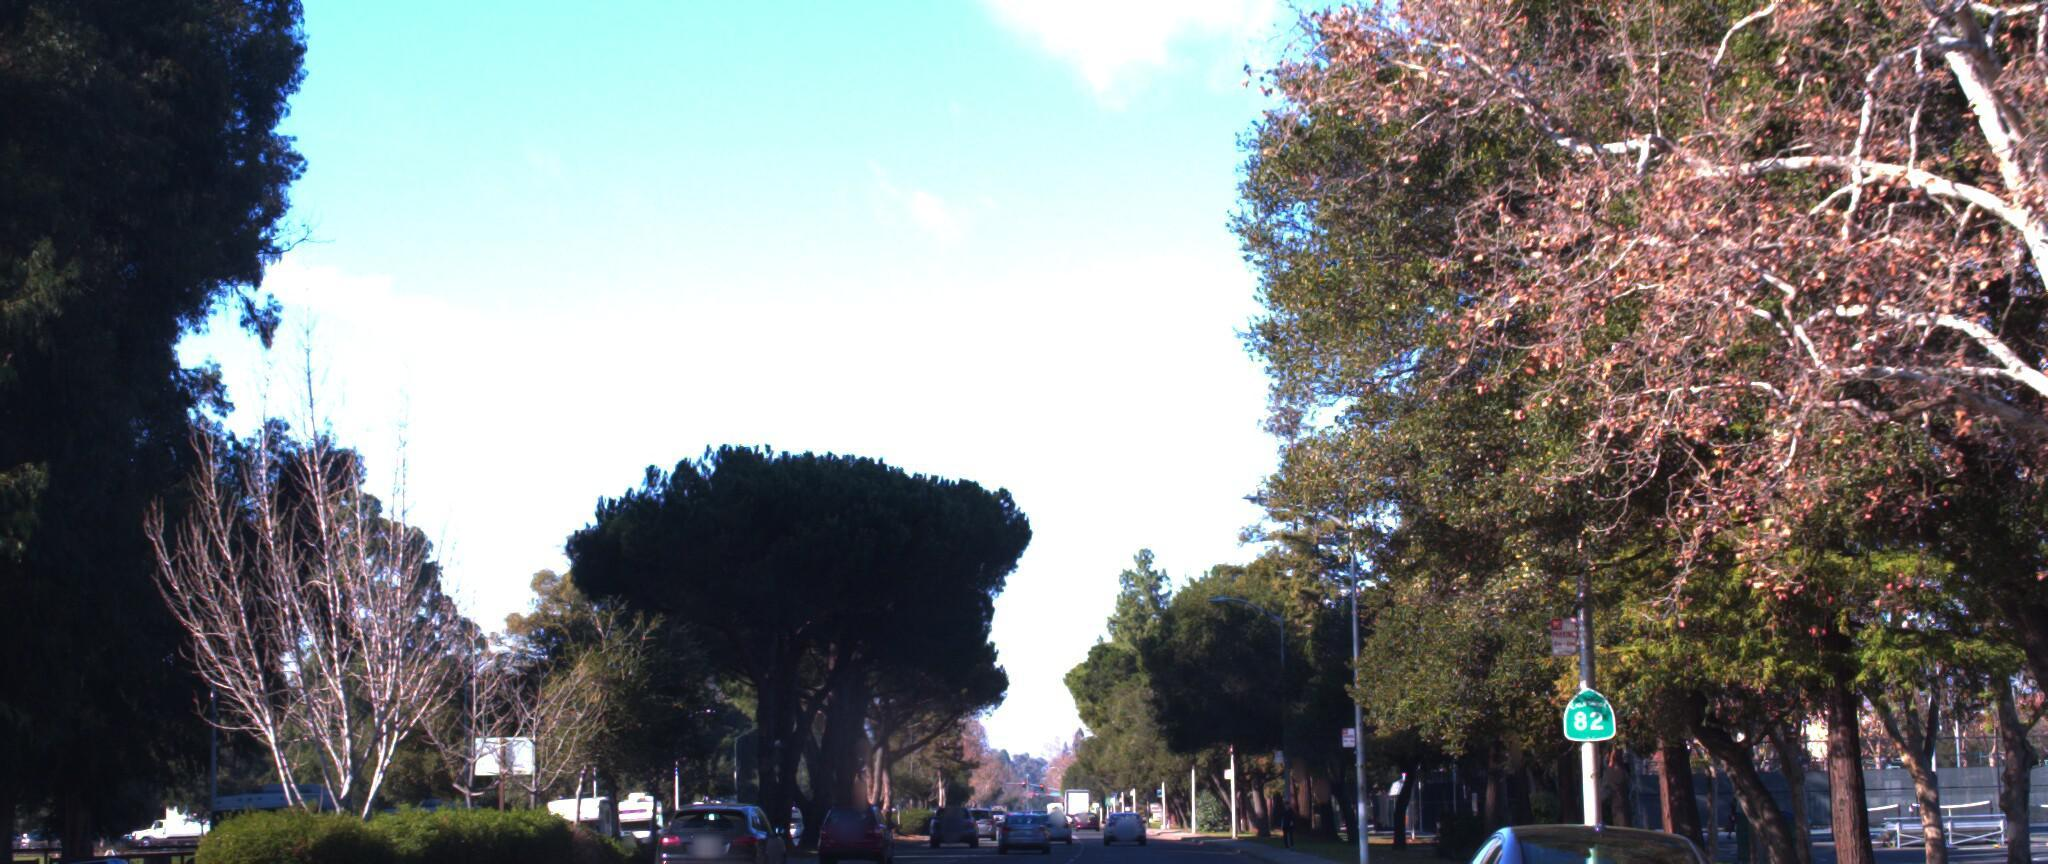car: (1392, 791, 1783, 864), (650, 783, 788, 864), (806, 788, 893, 855), (25, 834, 166, 864)
